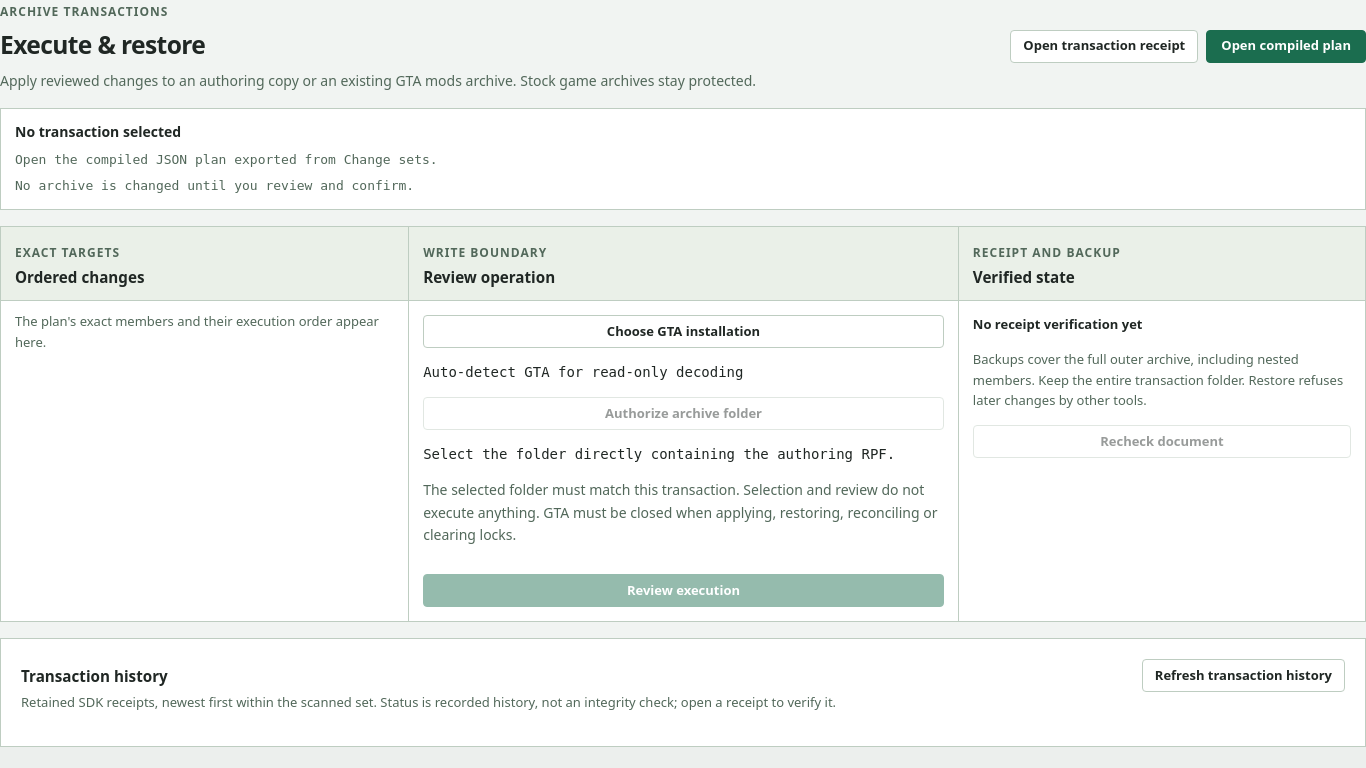
Test: opens retained history read-only and verifies the chosen receipt
The image size is (1366, 768).
Click the button "Refresh transaction history" at (1243, 676), box [1142,659,1345,692]
(page scrolled)
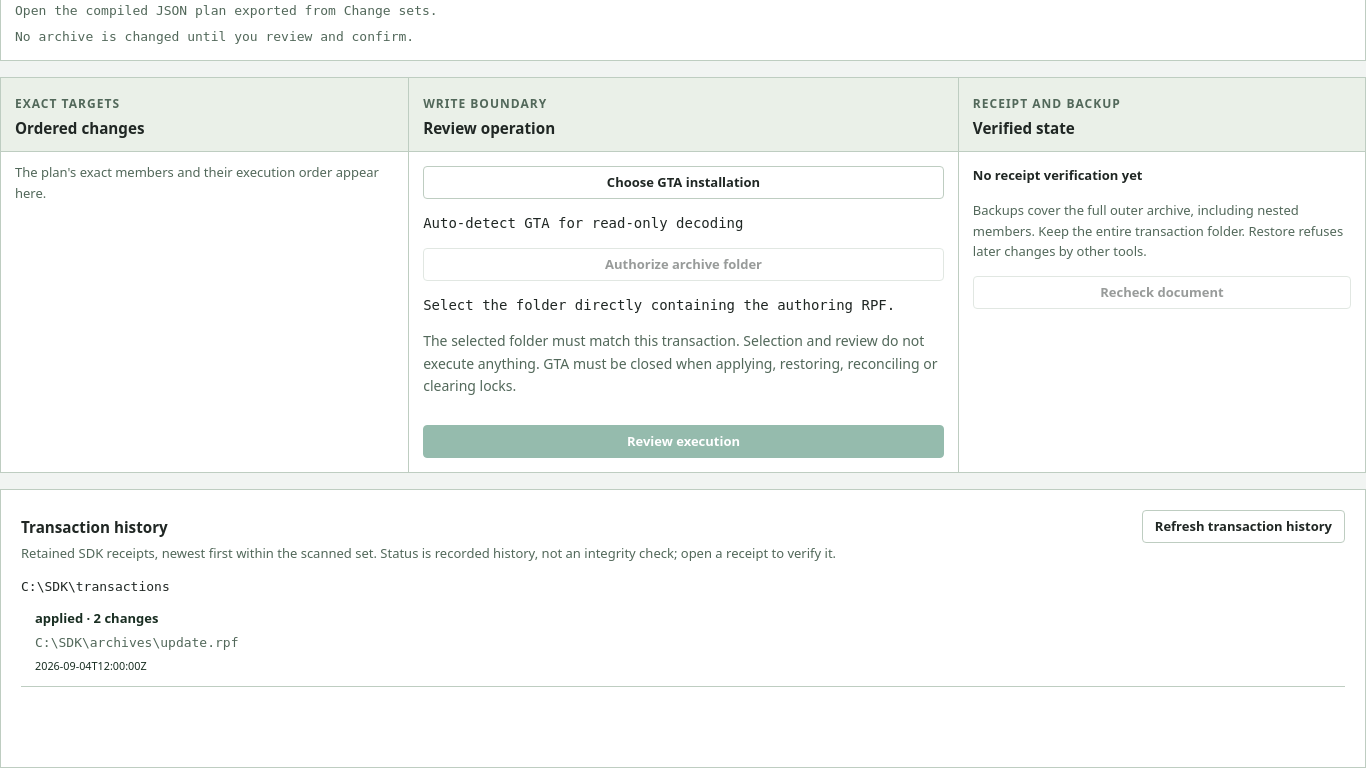
Click the button "applied · 2 changes" at (97, 618), box [21,597,1345,687]
(page scrolled)
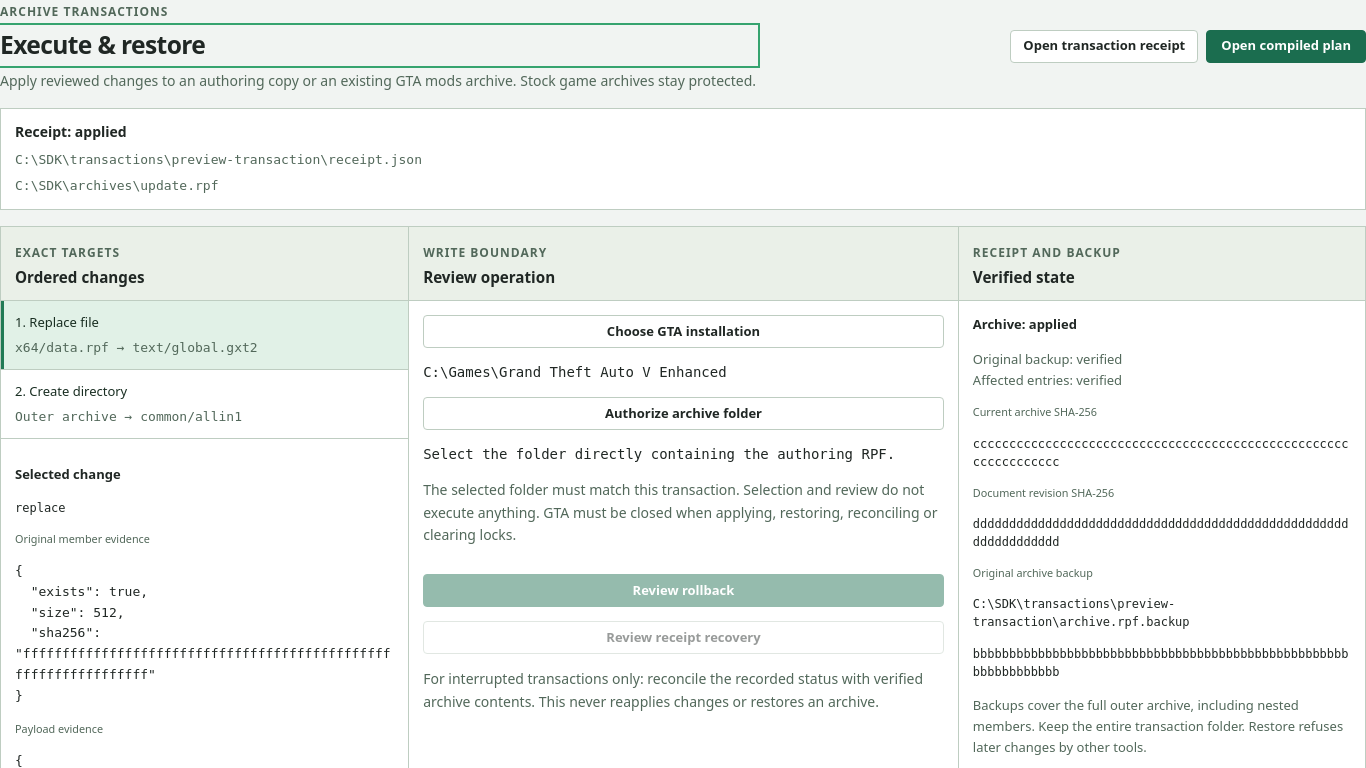
Now the text "Receipt: applied" is shown, box [15,122,127,141]
Now the button "Review receipt recovery" is disabled, box [423,621,944,654]
